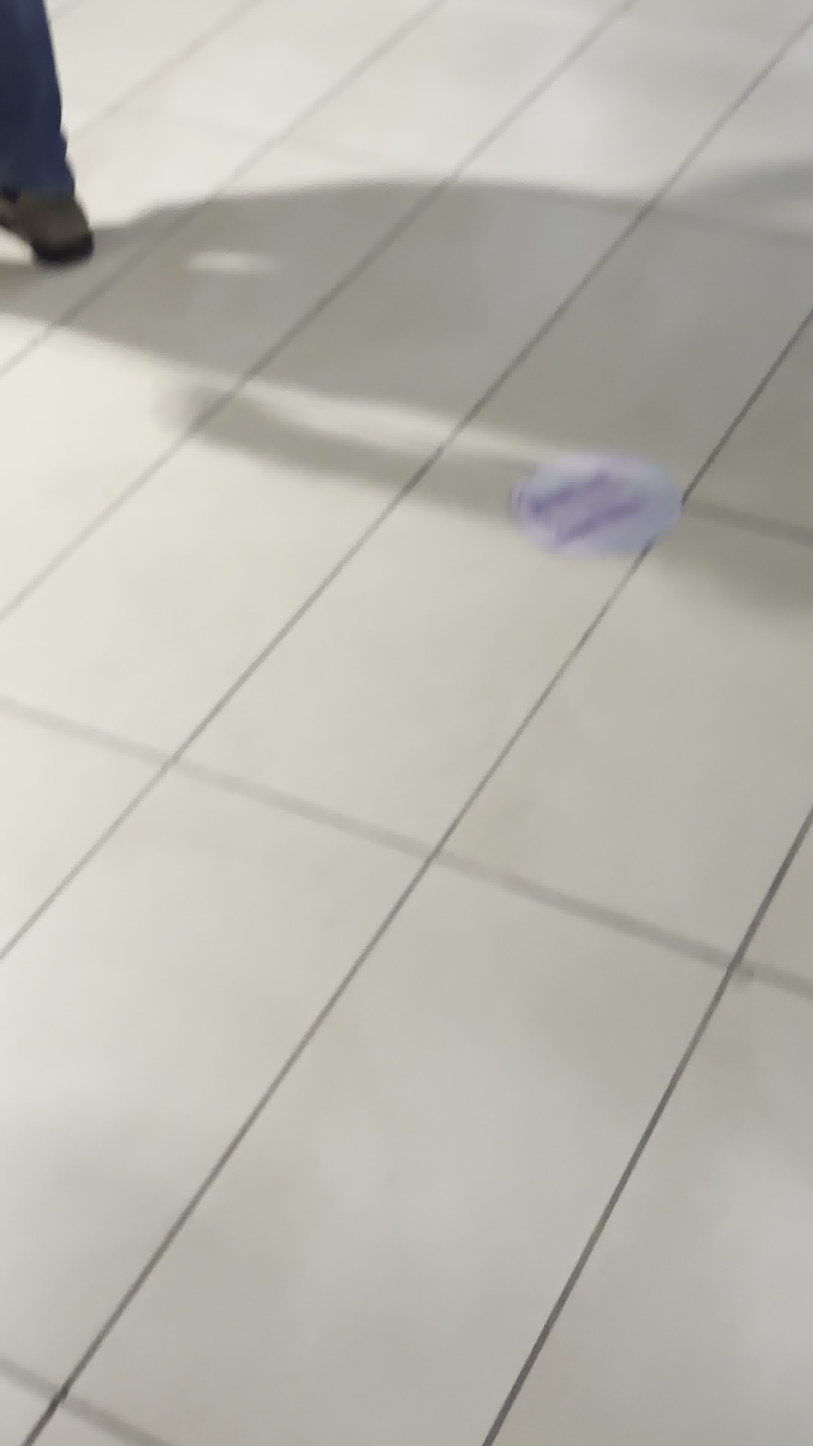Target: (510, 449, 685, 556)
